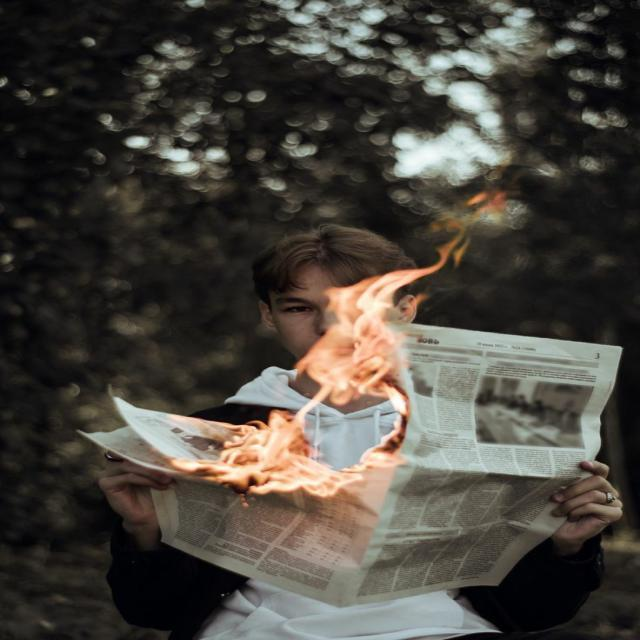Fire: (120, 208, 580, 489)
